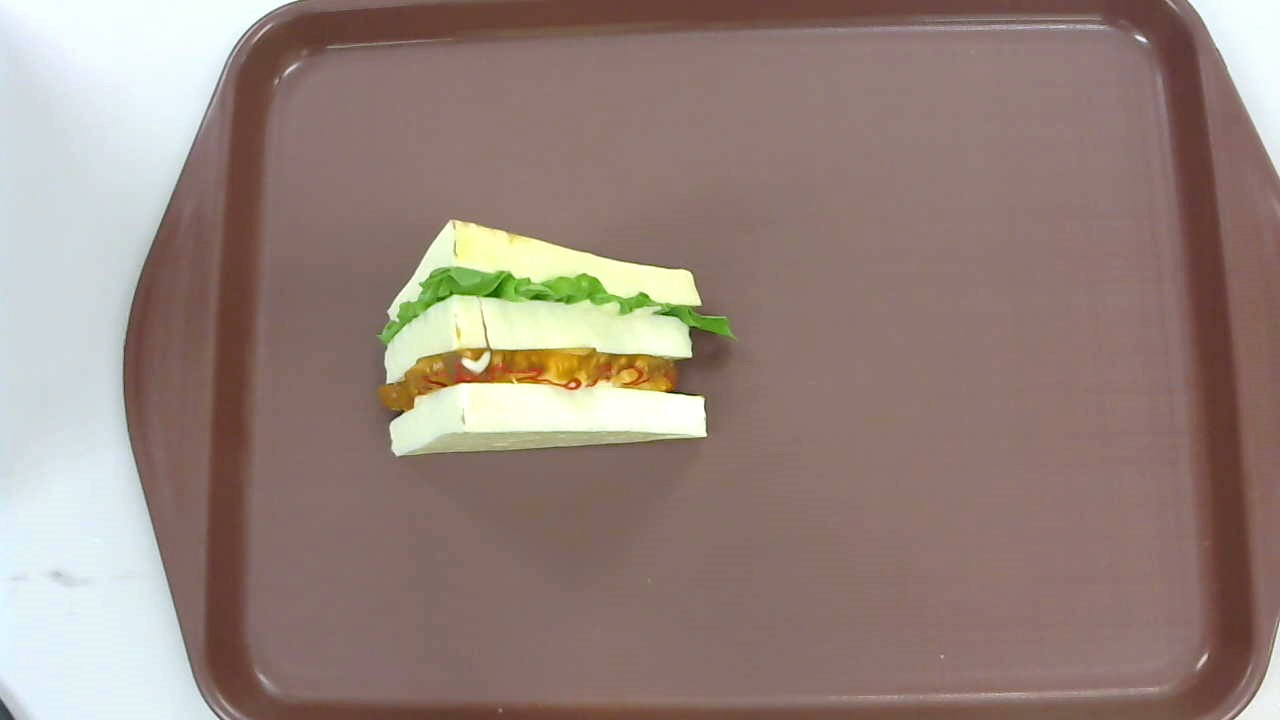sandwich: (376, 217, 742, 461)
